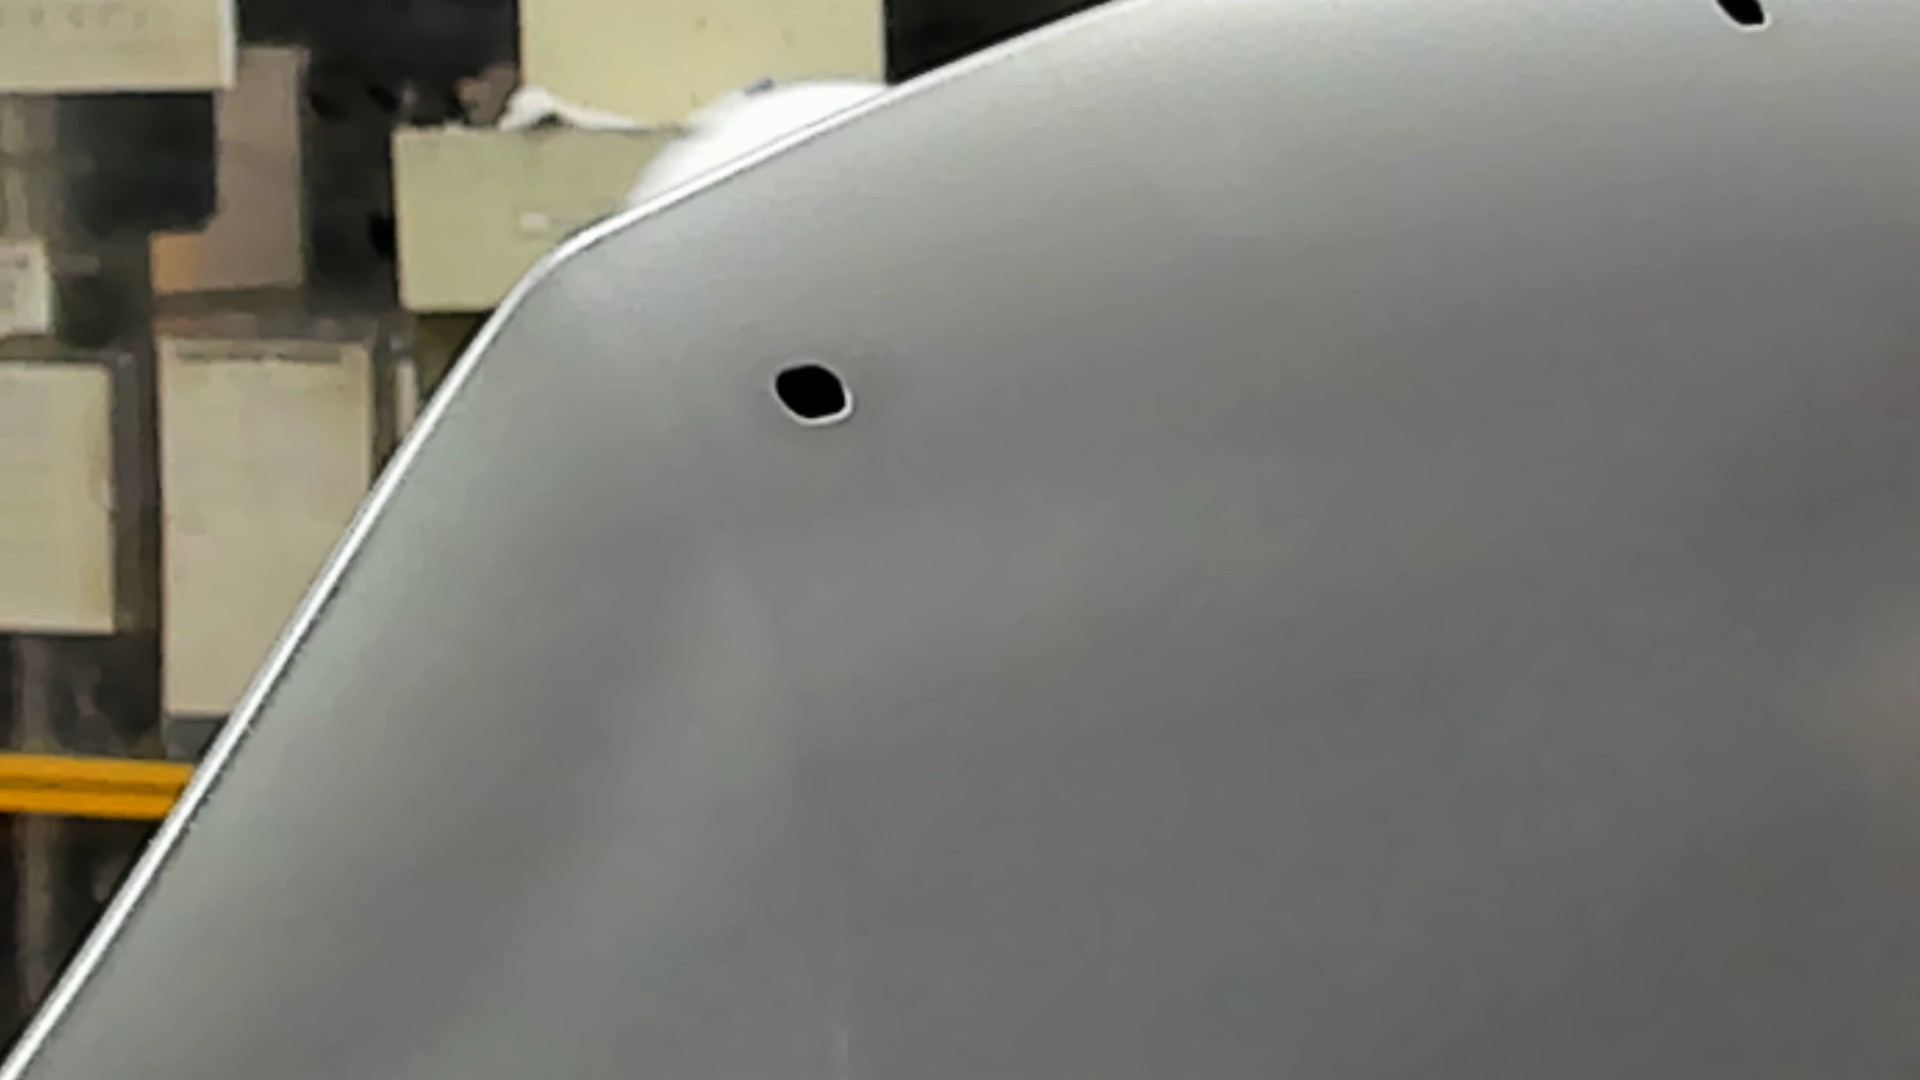amorfo: (764, 353, 856, 429), (1706, 1, 1788, 44)
capo: (952, 88, 1920, 1080)
